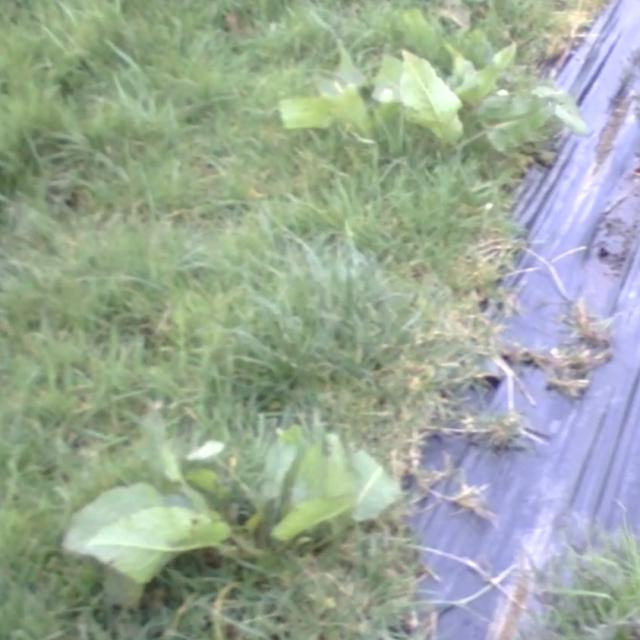organic waste: (48, 408, 433, 616), (292, 29, 601, 223)
